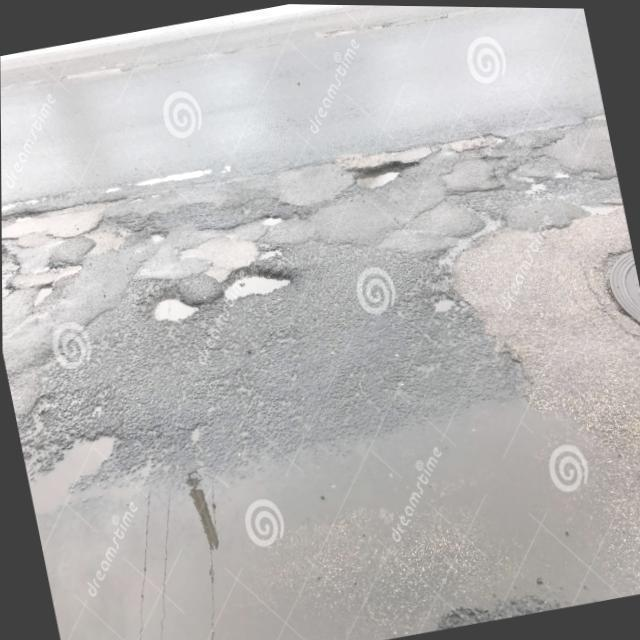Pothole: (18, 379, 640, 640), (220, 263, 299, 307), (345, 153, 414, 194), (144, 292, 202, 325)
